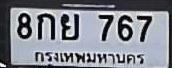6: (117, 14, 132, 40)
7: (136, 15, 151, 41), (98, 14, 112, 40)
8: (16, 12, 31, 38)
A01: (36, 12, 54, 39)
A34: (60, 13, 78, 39)
BKK: (31, 47, 145, 66)
